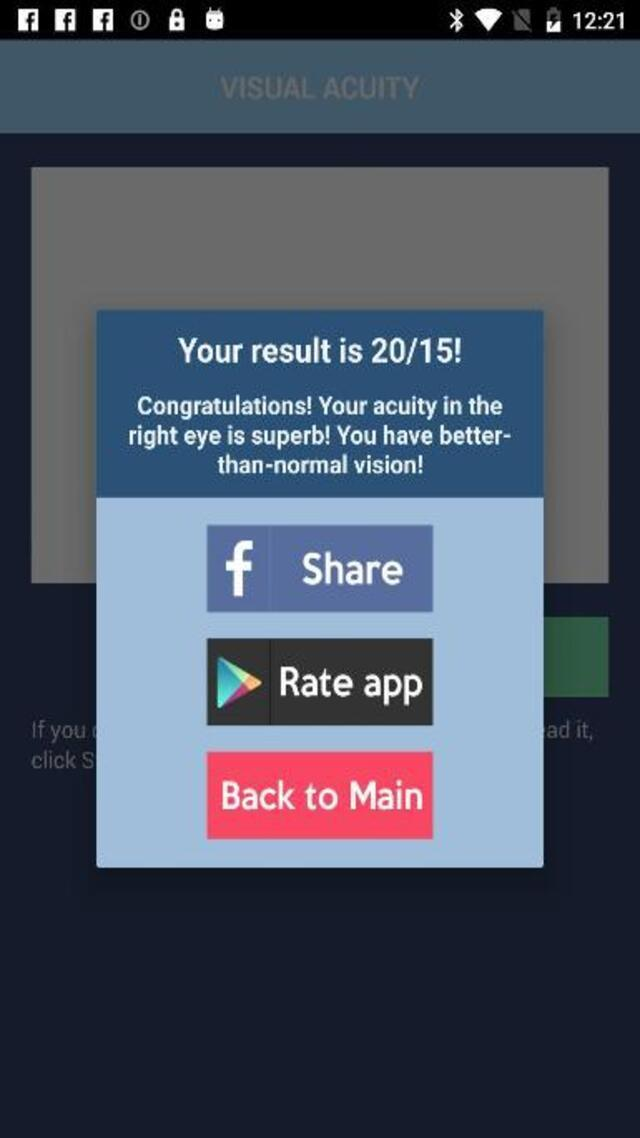Icon: (214, 654, 263, 711), (220, 535, 257, 599)
Text: (124, 425, 515, 449), (134, 395, 506, 419), (218, 778, 426, 813), (178, 338, 460, 363), (276, 661, 426, 708), (213, 451, 429, 479), (220, 76, 418, 98), (297, 548, 402, 588)
TextButton: (206, 637, 432, 724), (208, 752, 434, 838), (208, 526, 434, 612)
